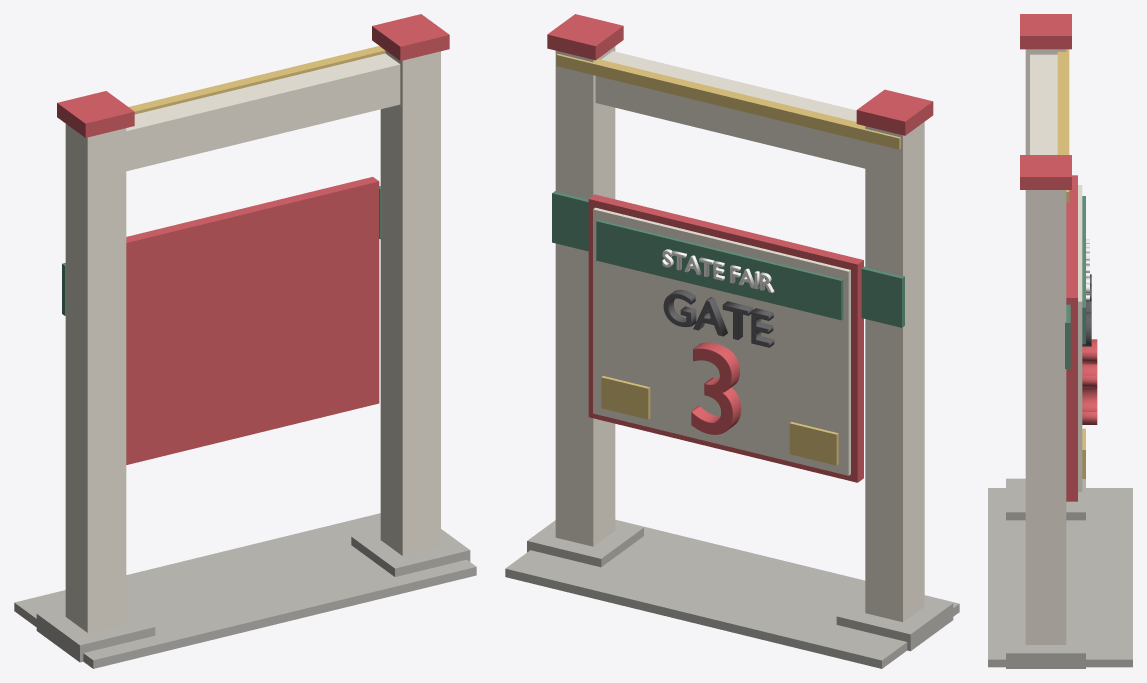
Rendered from state-fair-gate-03.glb.
3 renders of one model, left to right at view 1: azimuth 30°, elevation 25°; view 2: azimuth 150°, elevation 25°; view 3: azimuth 270°, elevation 25°, orthographic. The views are drawn at different scales.
Visible parts, largest first — view 1: SFG_SignBack, SFG_PostL, SFG_PostR, SFG_Pad, SFG_HeaderBeam, SFG_FootingL, SFG_FootingR, SFG_PostCapL, SFG_PostCapR, SFG_HeaderAccent; view 2: SFG_SignFace, SFG_PostL, SFG_Pad, SFG_PostR, SFG_HeaderBeam, SFG_Ribbon, SFG_SignBack, SFG_HeaderAccent, SFG_FootingL, SFG_GateNumber, SFG_GateLabel, SFG_FootingR (+7 smaller); view 3: SFG_PostR, SFG_Pad, SFG_SignBack, SFG_FootingR, SFG_HeaderBeam, SFG_PostCapL, SFG_PostCapR, SFG_SignFace, SFG_HeaderAccent, SFG_FootingL, SFG_GateNumber, SFG_PostL (+4 smaller).
Part boxes in pixels (bbox=[...]): SFG_SignBack: bbox=[126, 177, 379, 464]; SFG_PostL: bbox=[65, 124, 126, 632]; SFG_PostR: bbox=[380, 47, 440, 555]; SFG_Pad: bbox=[14, 513, 476, 668]; SFG_HeaderBeam: bbox=[126, 53, 400, 171]; SFG_FootingL: bbox=[36, 606, 155, 662]; SFG_FootingR: bbox=[351, 529, 470, 576]; SFG_PostCapL: bbox=[57, 91, 134, 137]; SFG_PostCapR: bbox=[372, 14, 449, 60]; SFG_HeaderAccent: bbox=[129, 46, 385, 114]; SFG_SignFace: bbox=[593, 207, 850, 475]; SFG_PostL: bbox=[865, 122, 924, 622]; SFG_Pad: bbox=[505, 519, 959, 668]; SFG_PostR: bbox=[555, 46, 615, 546]; SFG_HeaderBeam: bbox=[595, 51, 865, 168]; SFG_Ribbon: bbox=[596, 220, 843, 320]; SFG_SignBack: bbox=[588, 194, 863, 482]; SFG_HeaderAccent: bbox=[556, 54, 900, 149]; SFG_FootingL: bbox=[836, 596, 953, 651]; SFG_GateNumber: bbox=[691, 342, 741, 434]; SFG_GateLabel: bbox=[663, 289, 774, 347]; SFG_FootingR: bbox=[527, 520, 643, 567]; SFG_PostR: bbox=[1025, 190, 1066, 644]; SFG_Pad: bbox=[988, 488, 1132, 667]; SFG_SignBack: bbox=[1066, 175, 1077, 501]; SFG_FootingR: bbox=[1006, 619, 1085, 668]; SFG_HeaderBeam: bbox=[1030, 54, 1057, 154]; SFG_PostCapL: bbox=[1020, 14, 1071, 49]; SFG_PostCapR: bbox=[1020, 155, 1071, 189]; SFG_SignFace: bbox=[1078, 185, 1082, 491]; SFG_HeaderAccent: bbox=[1057, 49, 1069, 202]; SFG_FootingL: bbox=[1006, 478, 1085, 520]; SFG_GateNumber: bbox=[1082, 339, 1097, 424]; SFG_PostL: bbox=[1025, 49, 1066, 154].
Size of the model in its own units: 2.85 by 3.7 by 1.
